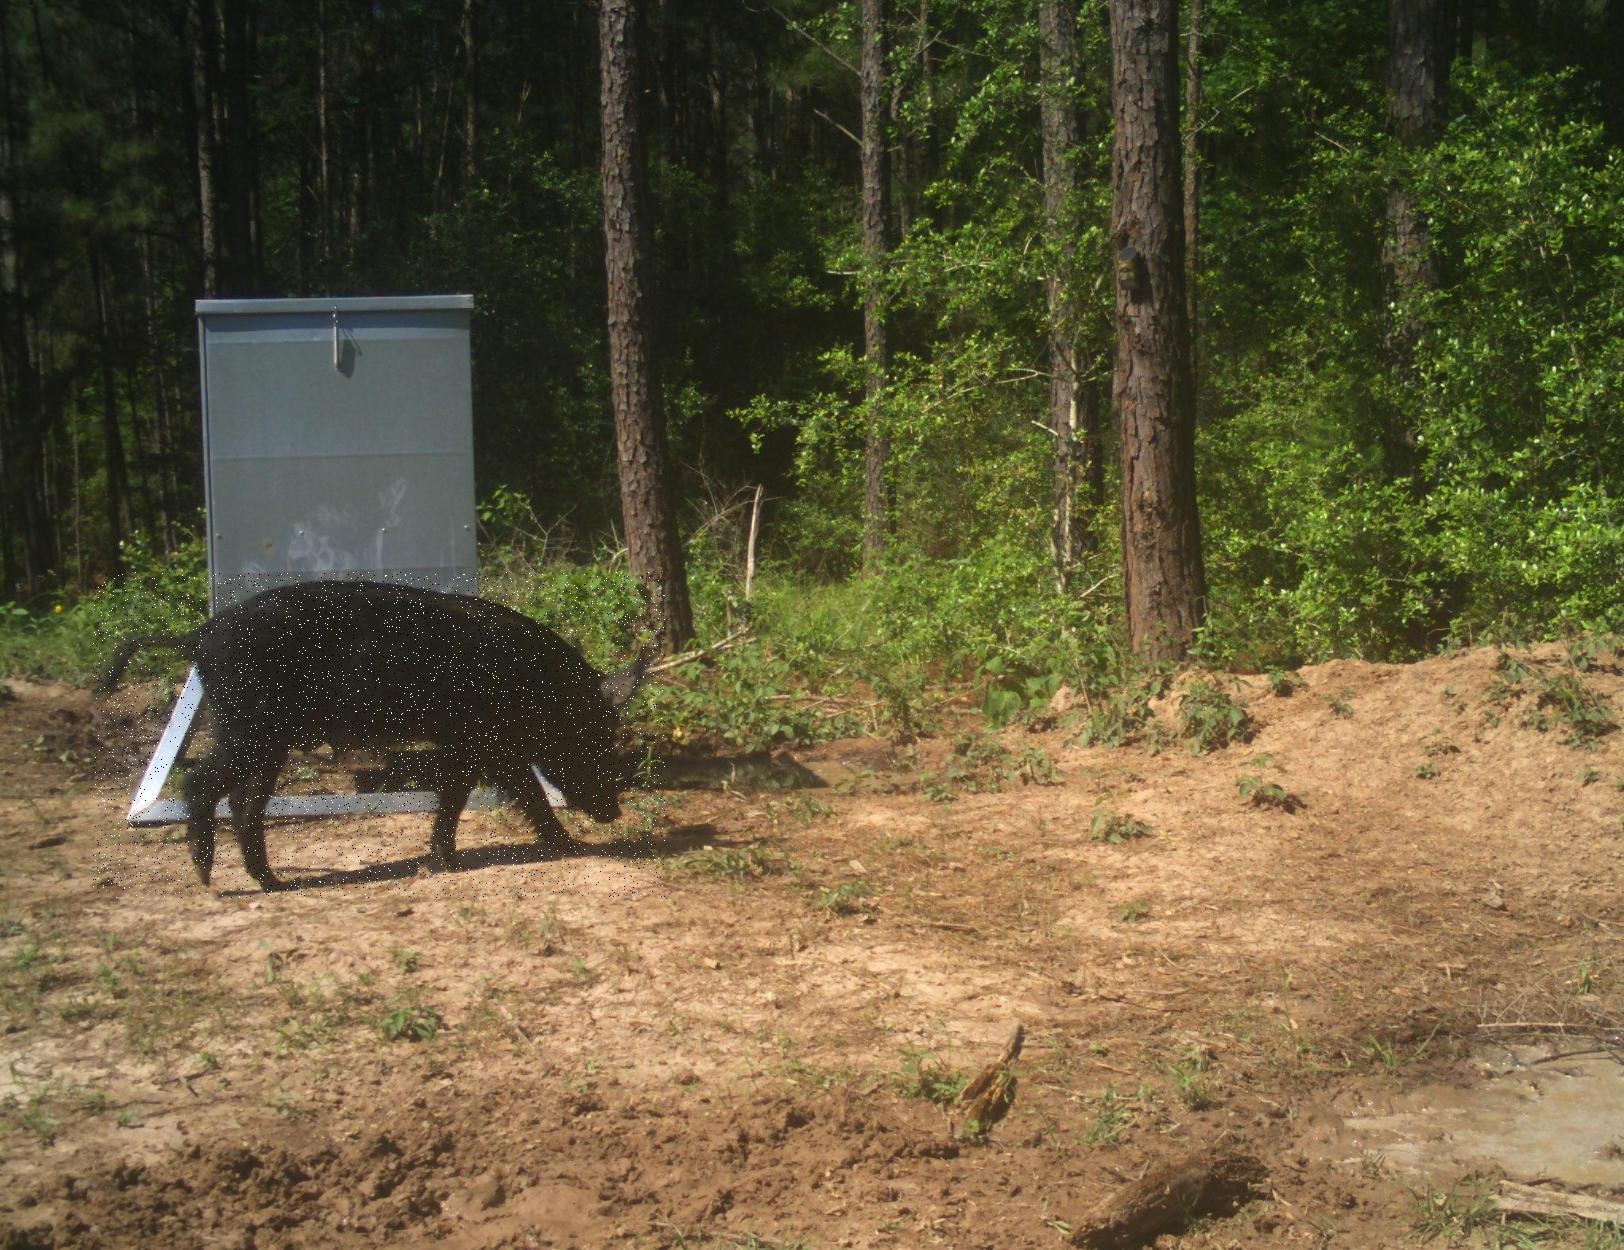Hog: (93, 572, 666, 898)
